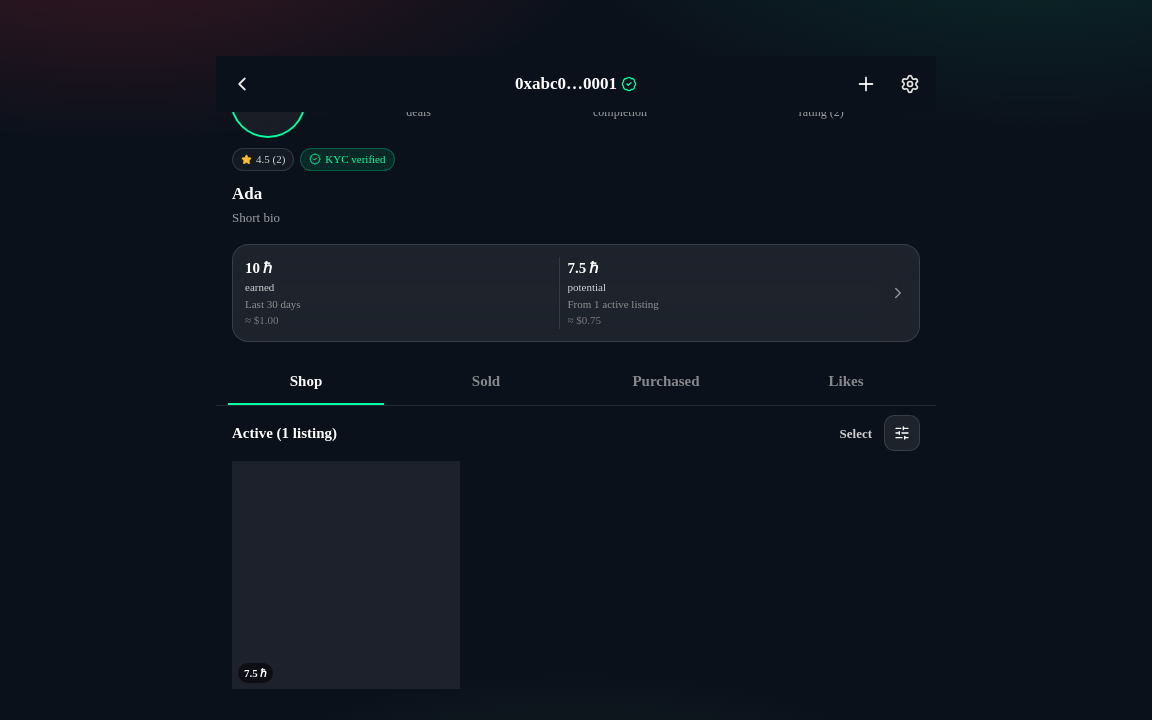
ProfileContent › renders the own-profile dossier from real stats, earnings, and shop tabs
The width and height of the screenshot is (1152, 720).
Expected: the heading with test id "profile-handle" reads "0xabc0…0001", top-left (515, 74), bottom-right (617, 93)
Expected: the text with test id "profile-display-name" reads "Ada", top-left (232, 184), bottom-right (262, 202)
Click the tab with test id "profile-tab-sold" at {"x": 486, "y": 381}, box top-left (396, 358), bottom-right (576, 404)
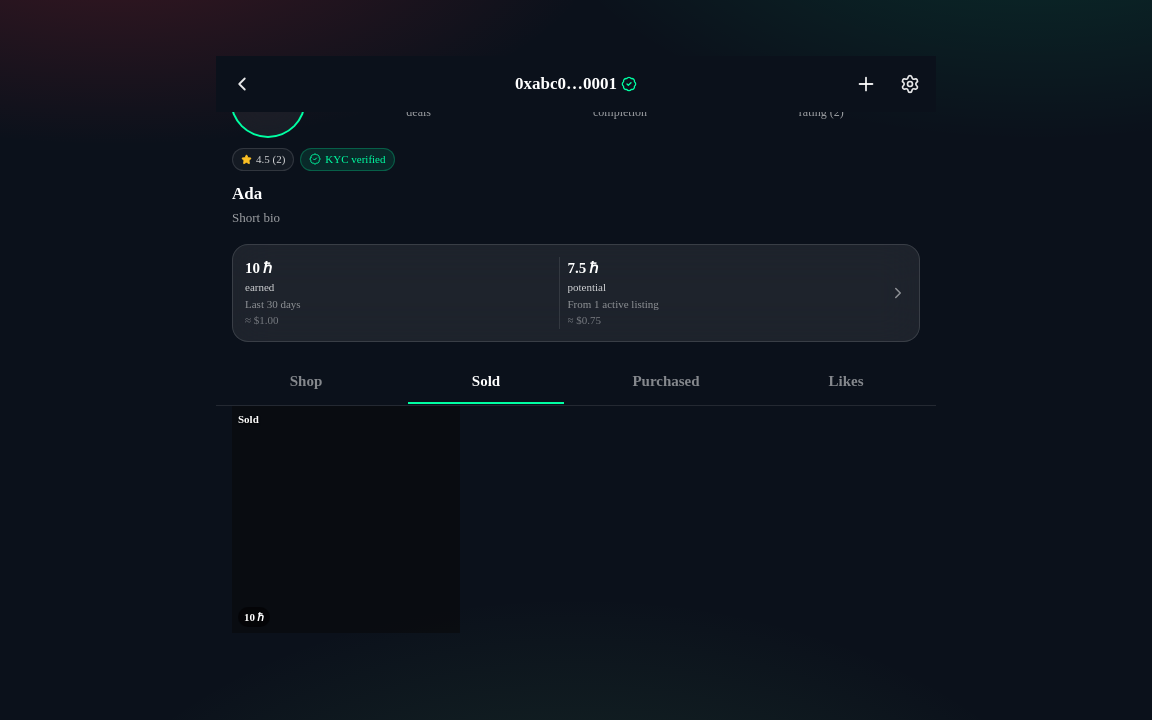
Expected: the number of links with test id "profile-tile" is 1, top-left (232, 405), bottom-right (460, 633)
Result: the number of elements with test id "profile-sold-label" is 1 at top-left (238, 411), bottom-right (259, 428)
Click the tab with test id "profile-tab-shop" at {"x": 306, "y": 381}, box top-left (216, 358), bottom-right (396, 404)
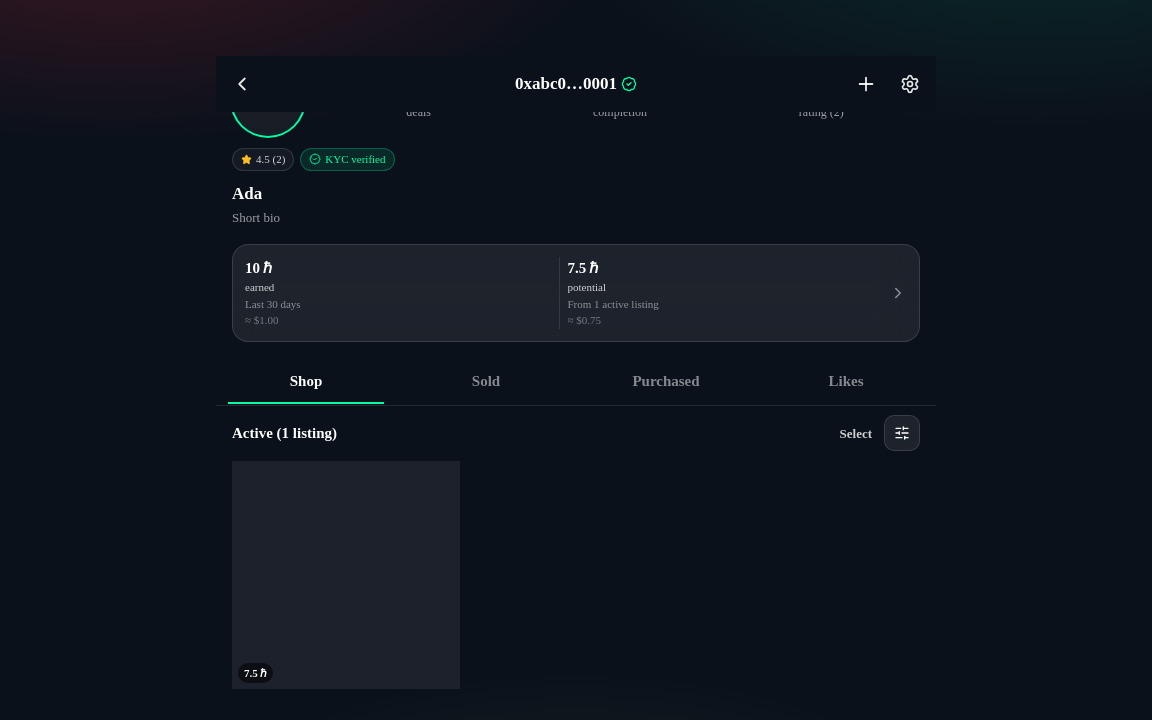
Click the button with test id "profile-select" at {"x": 856, "y": 433}, box top-left (832, 424), bottom-right (880, 443)
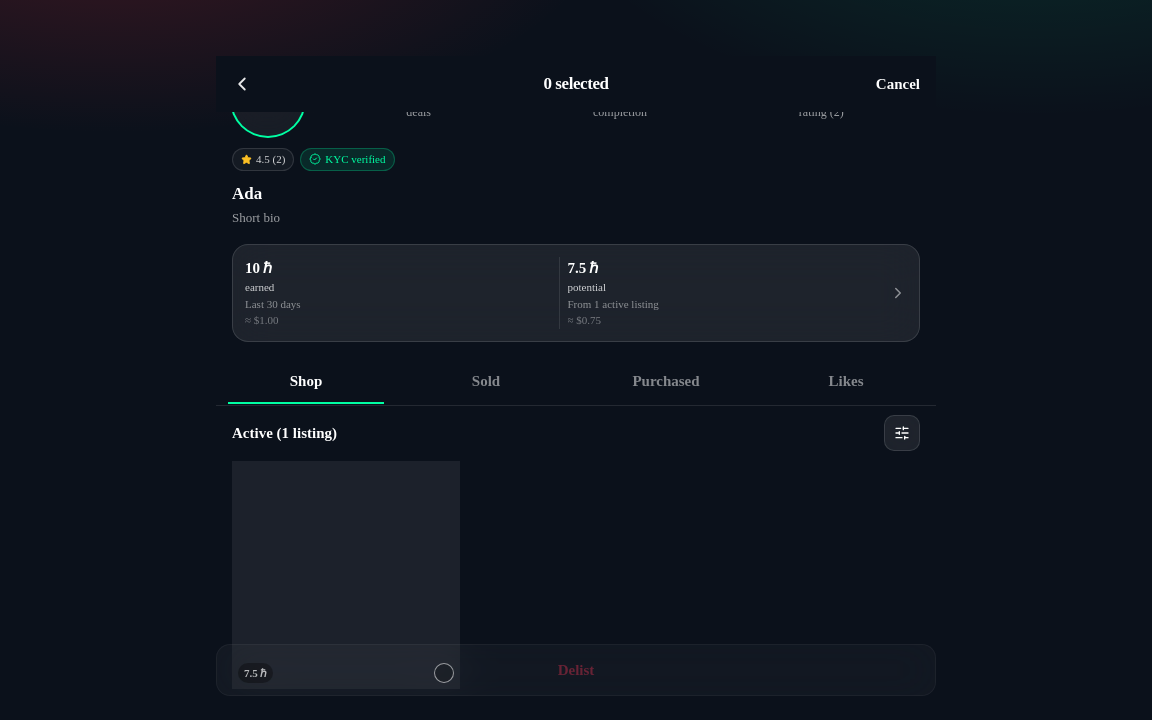
Result: the element with test id "profile-select-bar" reads "Delist" at top-left (216, 644), bottom-right (936, 696)
Result: the text "0 selected" is shown at top-left (543, 71), bottom-right (608, 97)
Result: the button with test id "profile-select-cancel" reads "Cancel"
Click the button with test id "profile-select-cancel" at {"x": 898, "y": 84}, box top-left (864, 73), bottom-right (932, 95)
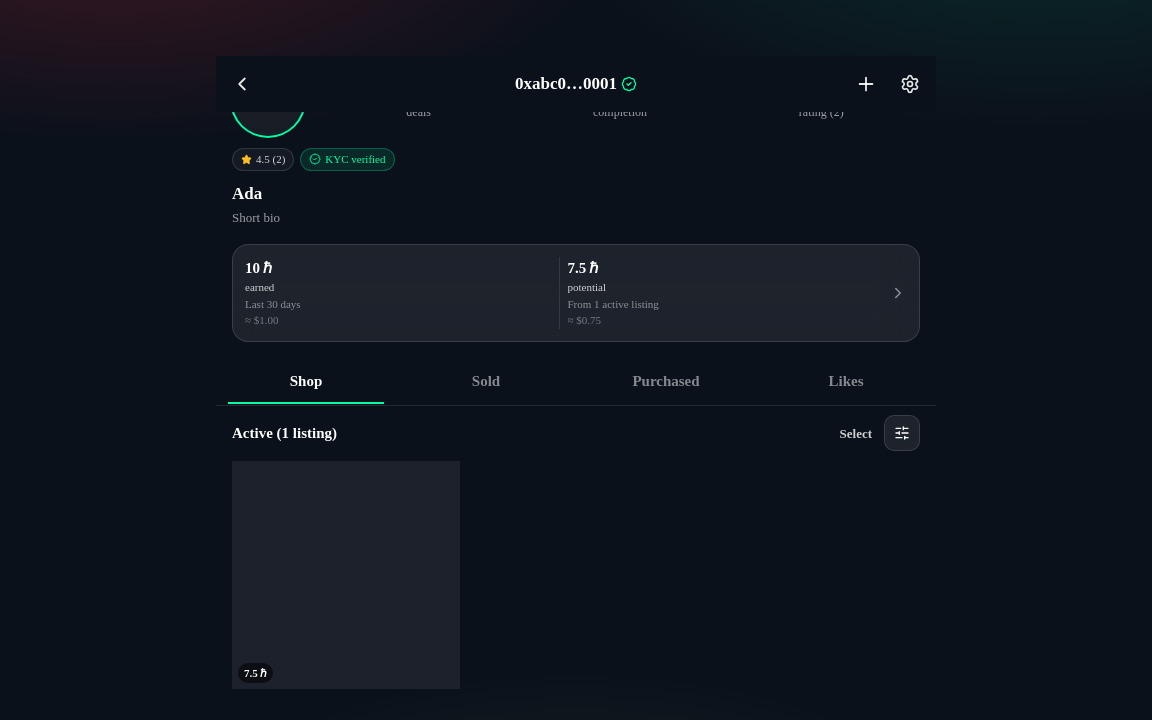
Result: the element with test id "profile-select-bar" is gone
Result: the button with test id "profile-select-cancel" is gone
Result: the text "0 selected" is gone
